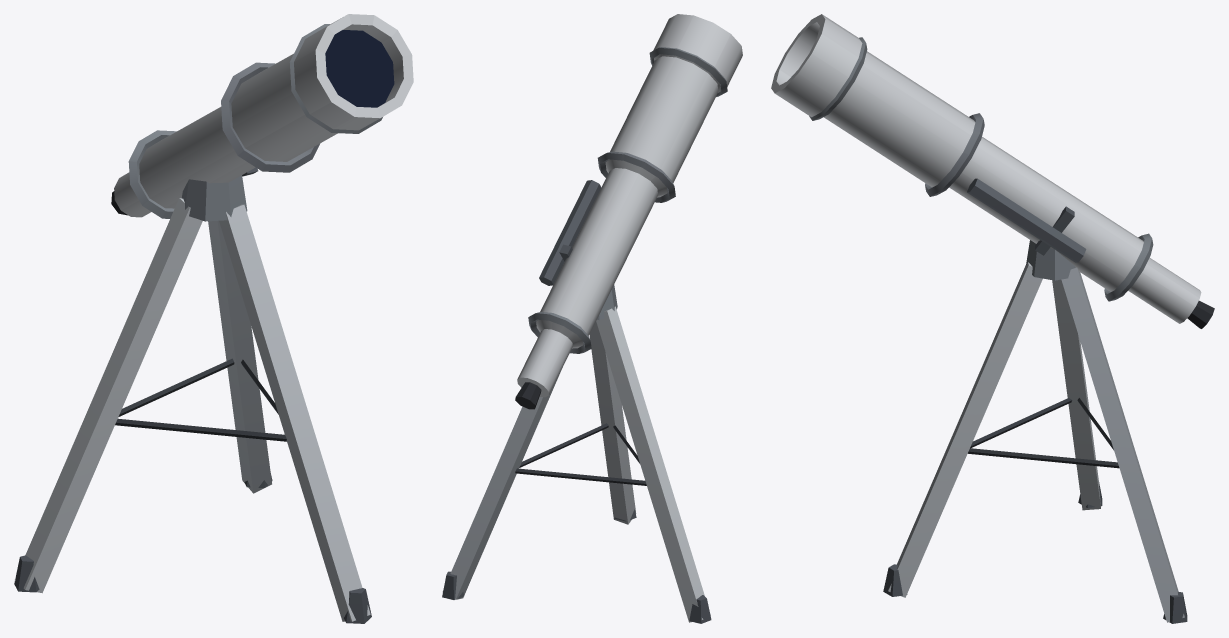
The model's file is telescope.glb.
3 renders of one model, left to right at view 1: azimuth 30°, elevation 25°; view 2: azimuth 150°, elevation 25°; view 3: azimuth 270°, elevation 25°, orthographic. The views are drawn at different scales.
Parts seen in each view (by area): view 1: telescope_body; view 2: telescope_body; view 3: telescope_body.
Part boxes in pixels (x1,y1,x2,y2): telescope_body: [14, 14, 413, 623]; telescope_body: [442, 14, 742, 623]; telescope_body: [771, 14, 1214, 623].
Bounding box in the file's own units: 1.12 × 2.3 × 1.66.
